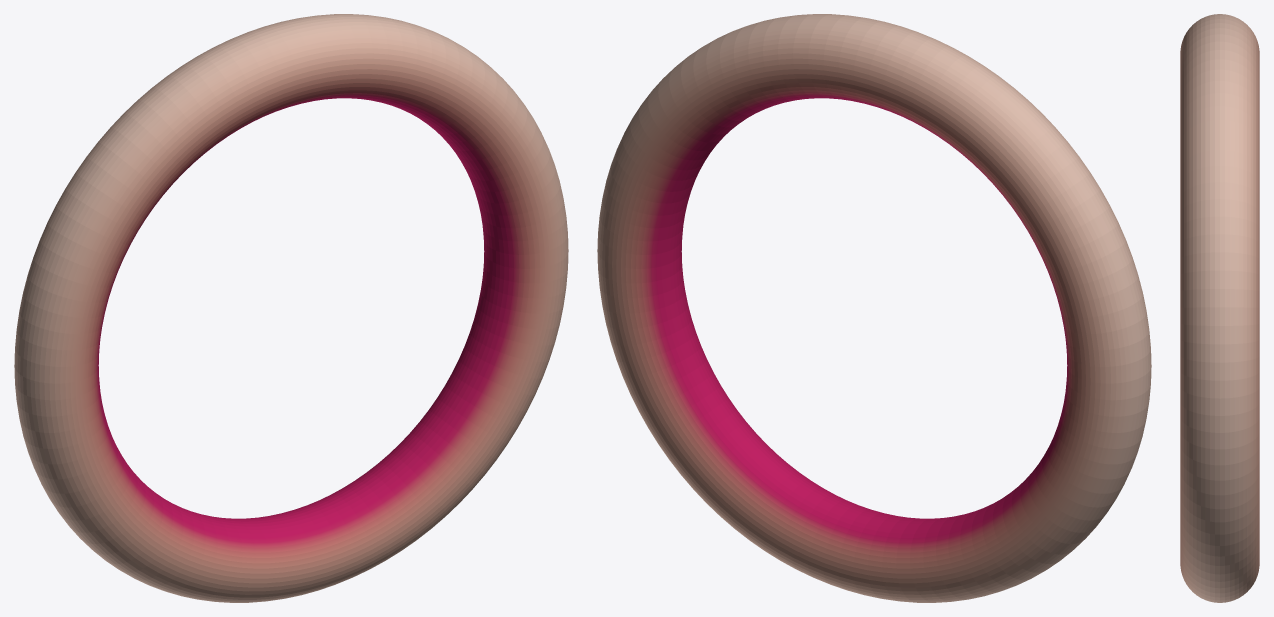
3 renders of one model, left to right at view 1: azimuth 30°, elevation 25°; view 2: azimuth 150°, elevation 25°; view 3: azimuth 270°, elevation 25°, orthographic. The views are drawn at different scales.
Visible parts, largest first — view 1: world; view 2: world; view 3: world.
Boxes of the visible parts, x1=… form: world: x1=14, y1=14, x2=568, y2=602; world: x1=597, y1=14, x2=1151, y2=602; world: x1=1180, y1=14, x2=1259, y2=602.
Bounding box in the file's own units: 34.67 × 34.67 × 4.66.
